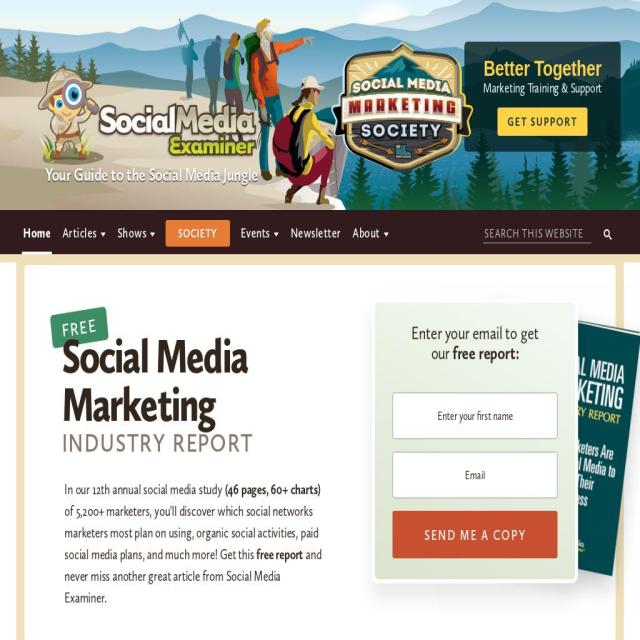button: (498, 107, 588, 136), (288, 210, 342, 254), (61, 210, 107, 254), (239, 210, 280, 254), (116, 210, 156, 254), (165, 220, 230, 247), (351, 210, 390, 254), (22, 210, 52, 254), (600, 224, 616, 245)
field: (392, 511, 558, 558), (392, 393, 558, 439), (392, 452, 558, 498), (483, 226, 589, 241)
heading: (61, 332, 351, 428), (38, 67, 258, 165)
image: (329, 41, 474, 172), (604, 229, 612, 240)
text: (64, 546, 322, 606), (64, 502, 319, 562), (61, 428, 351, 458), (45, 165, 258, 185), (410, 322, 540, 344), (64, 481, 225, 497), (482, 58, 602, 79), (482, 79, 602, 98), (225, 481, 322, 497), (452, 342, 519, 364), (605, 11, 632, 47), (290, 225, 341, 241), (256, 546, 304, 562), (62, 225, 97, 241), (178, 227, 218, 241), (430, 342, 452, 364), (117, 225, 147, 241), (240, 225, 270, 241), (23, 225, 51, 241), (352, 225, 380, 241), (589, 226, 591, 241)
